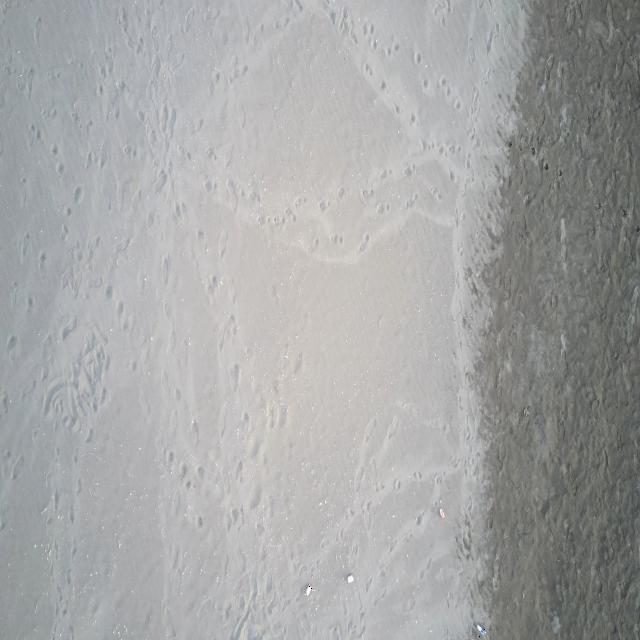tin-and-aluminum-cans: (304, 582, 314, 597), (476, 624, 486, 637), (439, 508, 446, 521), (346, 574, 355, 584)
